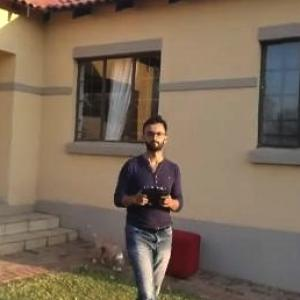follow: (109, 109, 191, 299)
null: (81, 216, 127, 272)
